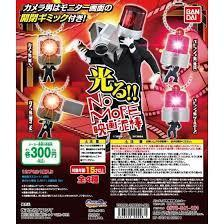no more kid: (88, 20, 121, 56)
